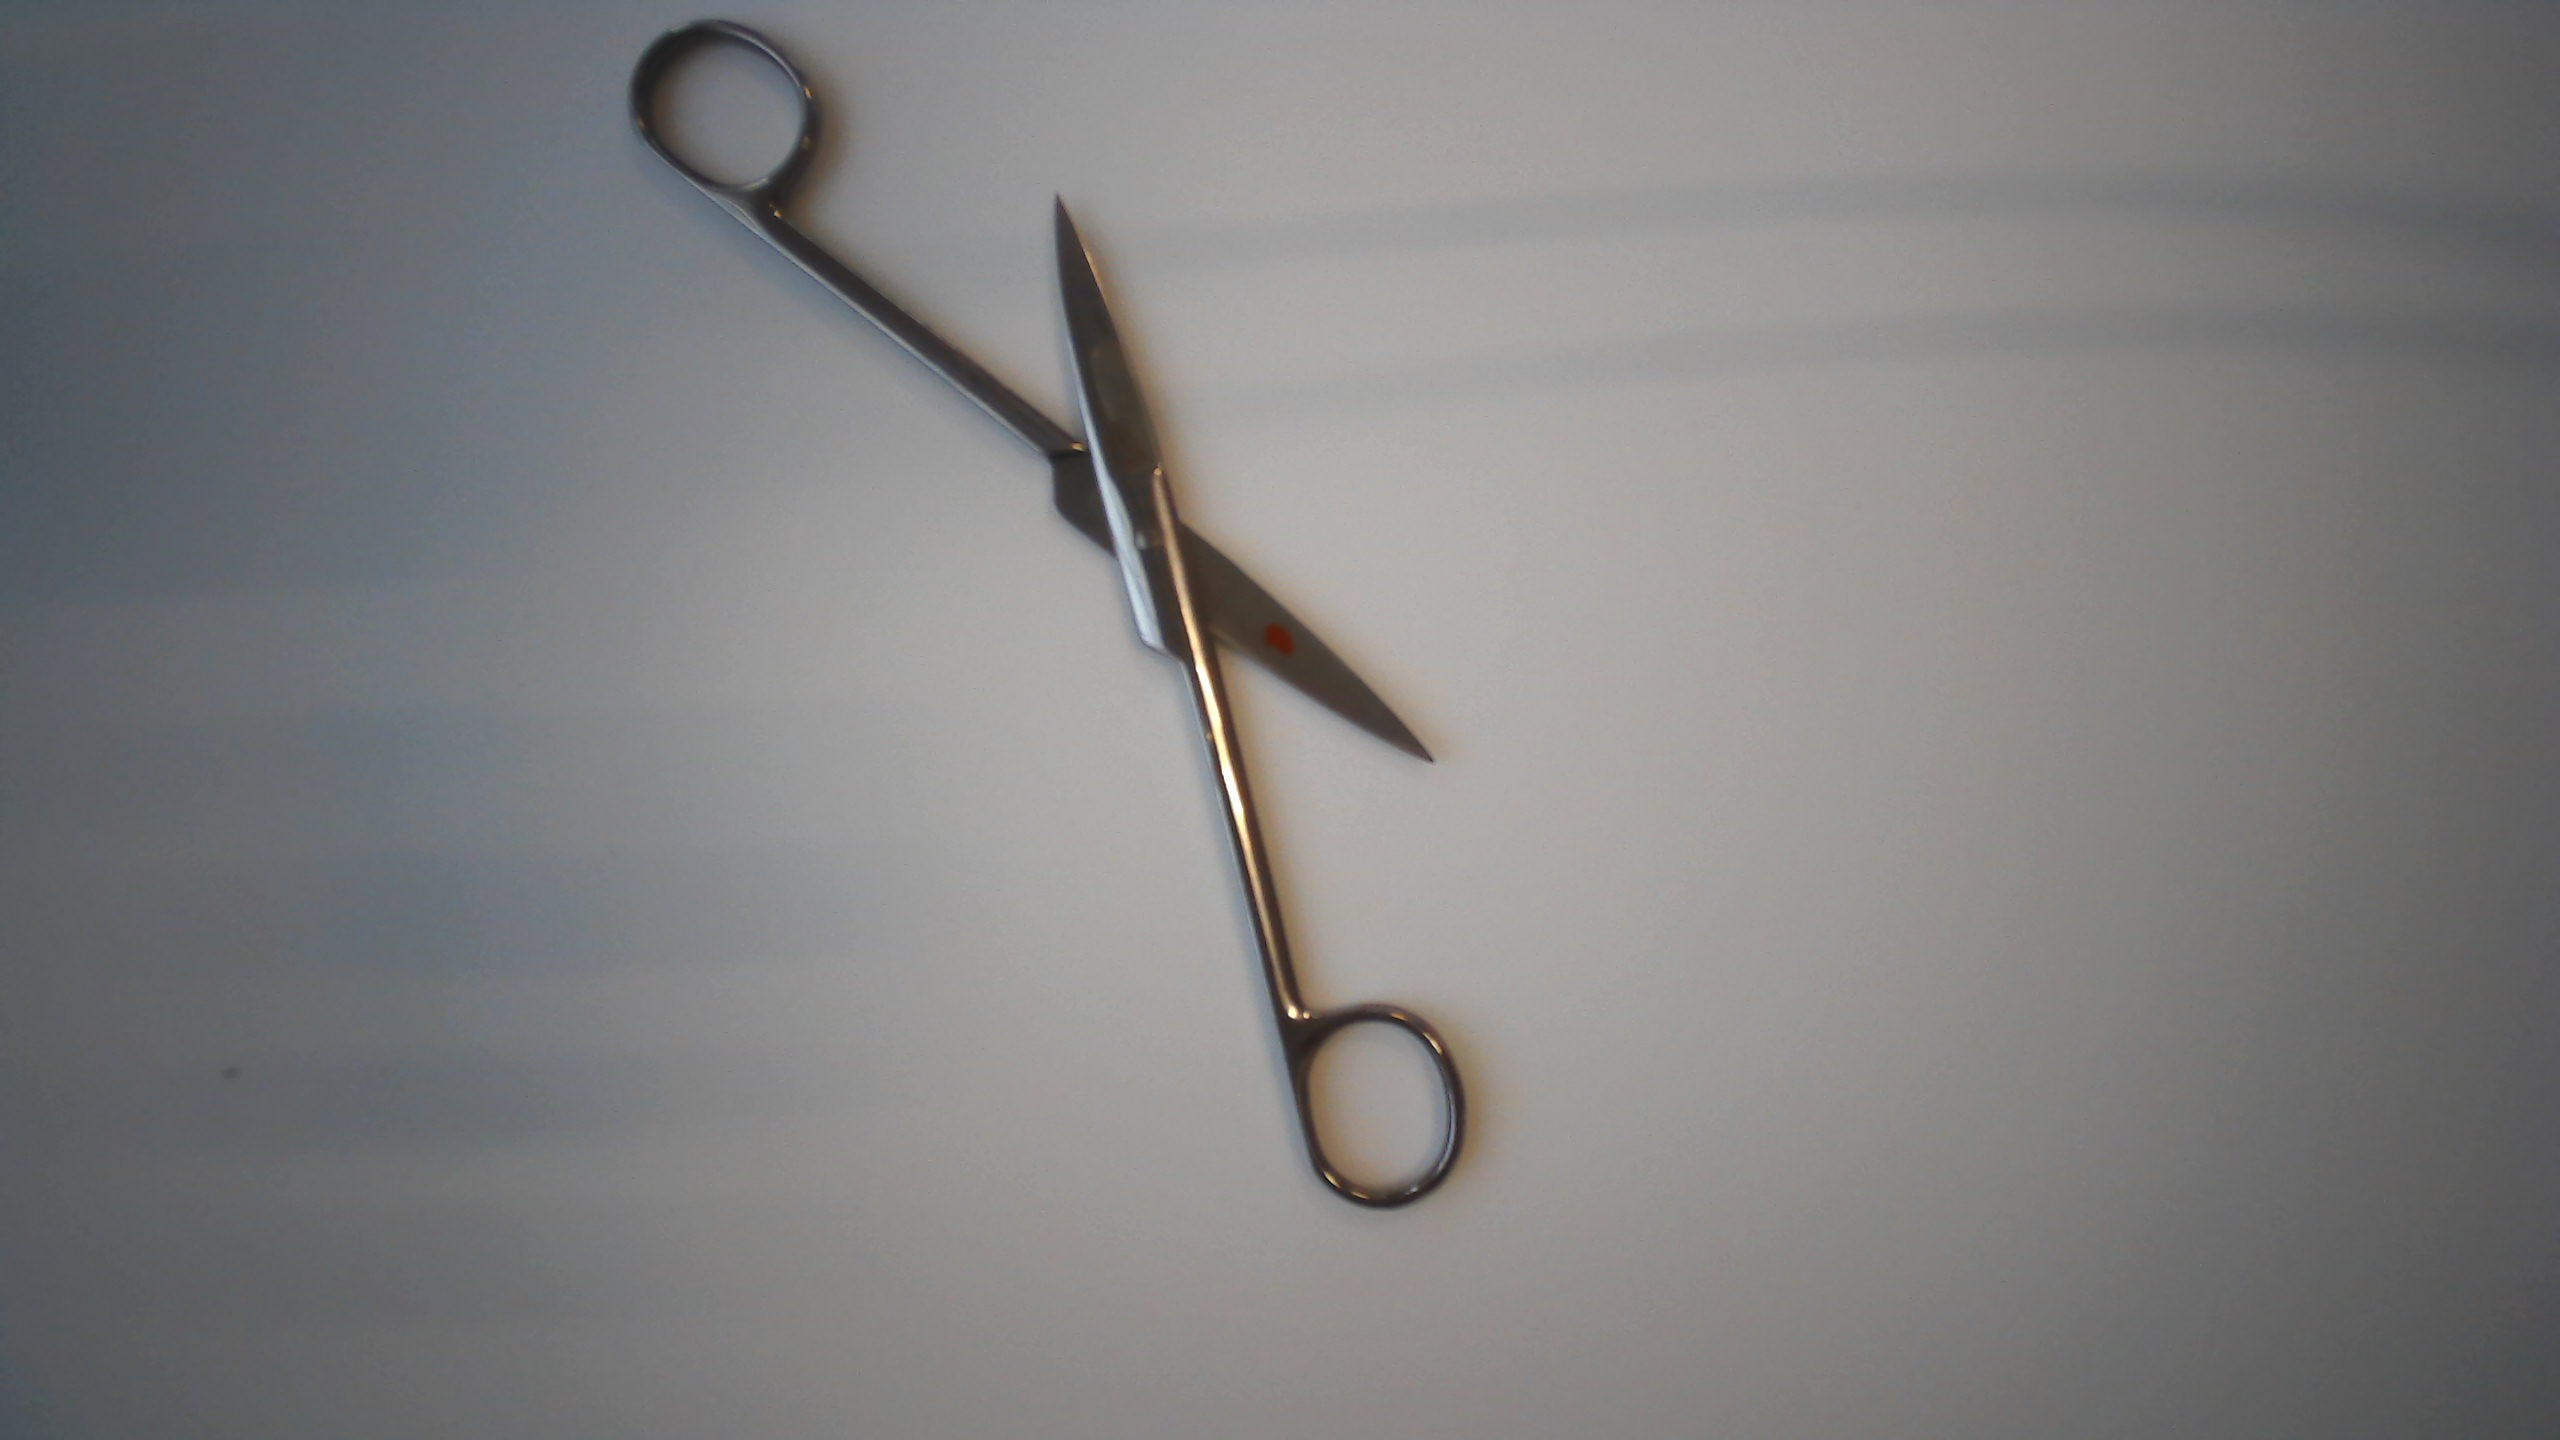Stain: (1257, 617, 1303, 659)
